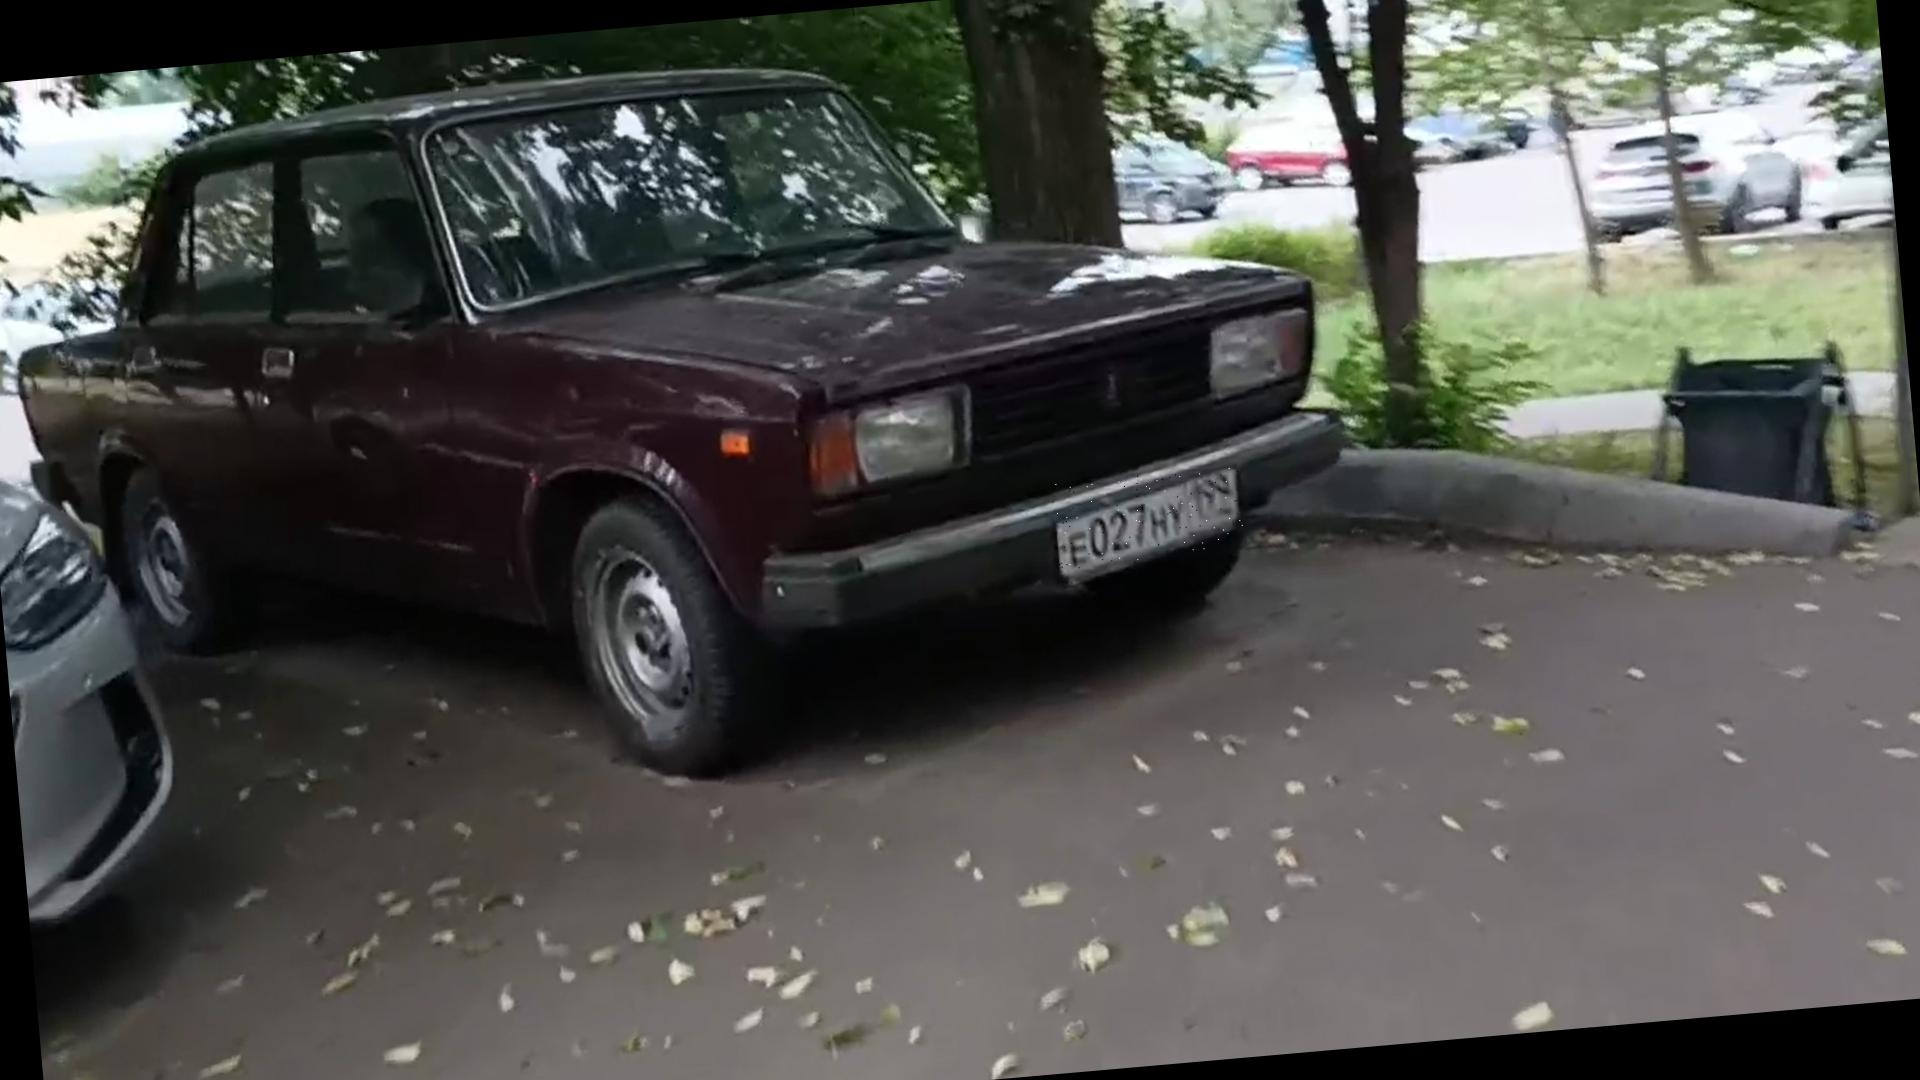plate: (1054, 466, 1248, 572)
